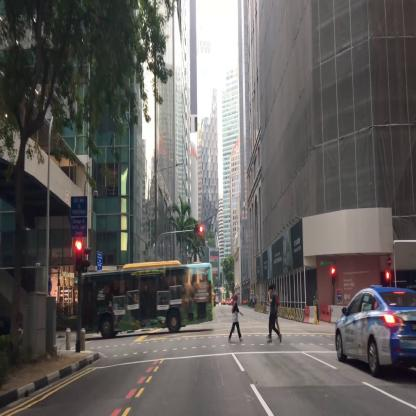red_traffic_light: (76, 242, 82, 271), (193, 227, 202, 232)
